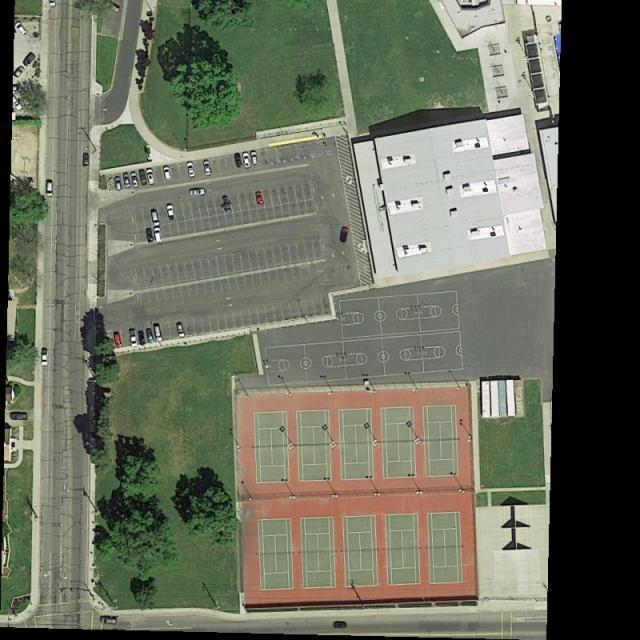vehicle: (14, 21, 30, 38), (22, 50, 37, 67), (104, 1, 121, 15), (150, 209, 162, 228), (222, 194, 233, 214), (338, 226, 350, 244), (145, 169, 157, 186), (166, 204, 177, 221), (122, 171, 132, 189), (100, 616, 118, 626), (161, 166, 172, 182), (129, 328, 138, 347), (154, 323, 163, 342), (138, 169, 148, 186), (176, 322, 186, 339), (13, 65, 26, 78), (10, 412, 28, 421), (113, 331, 122, 349), (146, 327, 155, 344), (189, 188, 206, 197), (242, 153, 251, 170), (130, 172, 139, 188), (46, 179, 54, 197), (40, 348, 48, 366), (145, 228, 154, 244), (186, 162, 195, 178), (154, 228, 163, 244), (202, 161, 211, 177), (254, 191, 264, 205), (250, 151, 259, 166), (138, 330, 146, 346), (234, 153, 242, 169), (334, 621, 347, 630), (114, 177, 122, 191), (82, 153, 90, 167), (49, 1, 56, 6)
